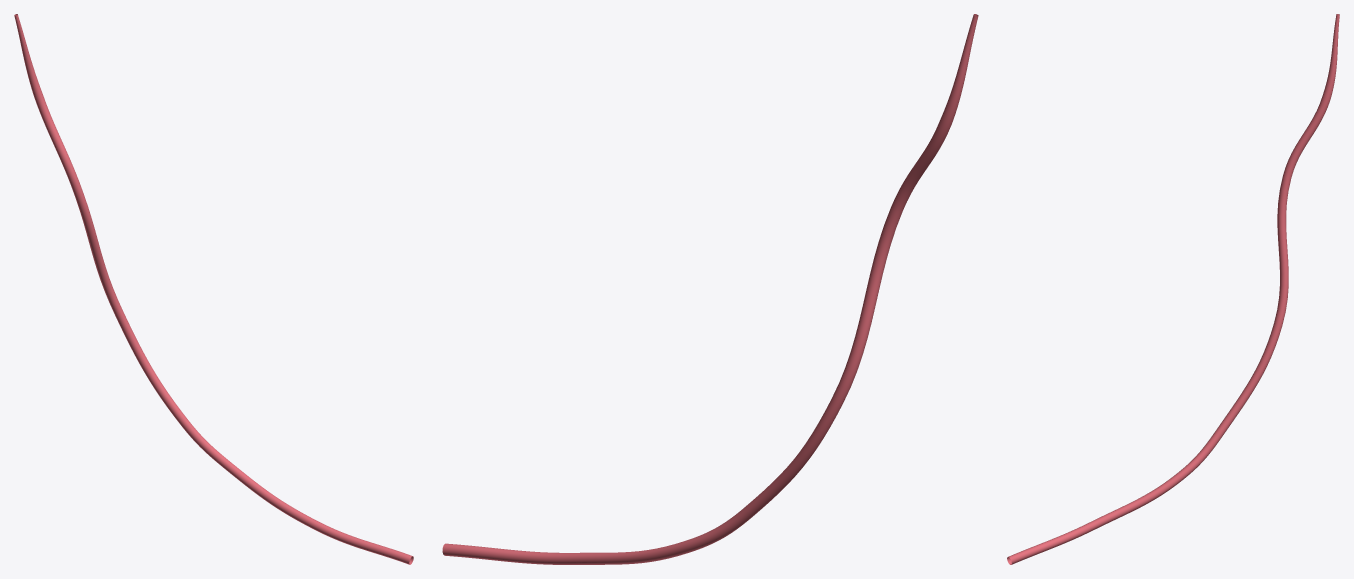
3 renders of one model, left to right at view 1: azimuth 30°, elevation 25°; view 2: azimuth 210°, elevation 25°; view 3: azimuth 270°, elevation 25°, orthographic. The views are drawn at different scales.
Parts seen in each view (by area): view 1: ZA_b56938de30c86bec; view 2: ZA_b56938de30c86bec; view 3: ZA_b56938de30c86bec.
Part boxes in pixels (<box>): ZA_b56938de30c86bec: <box>14,14,413,564</box>; ZA_b56938de30c86bec: <box>442,14,978,564</box>; ZA_b56938de30c86bec: <box>1007,14,1339,564</box>.
Size of the model in its own units: 0.028 by 0.0564 by 0.0378.
